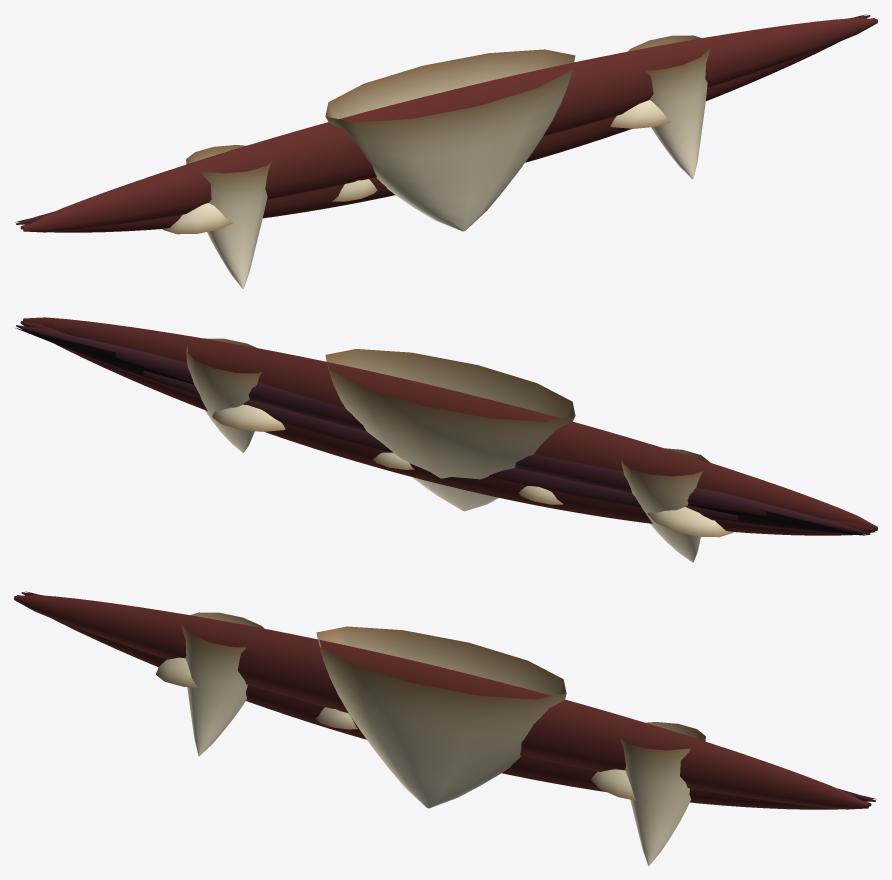
File: GXR_MOUTH_BEAK_FANGS.glb
The picture shows the model from 3 angles, top to bottom: view 1: azimuth 30°, elevation 25°; view 2: azimuth 150°, elevation 25°; view 3: azimuth 330°, elevation 25°; orthographic projection.
Parts seen in each view (by area): view 1: UpperLip, DraconicBeak, LowerLip, Tooth_0_0, Tooth_0_3, Tooth_1_0, Tooth_1_3, Tooth_1_1; view 2: UpperLip, DraconicBeak, UpperGum, LowerLip, LowerGum, Tooth_0_0, Tooth_0_3, OralCavity, Tooth_1_0, Tooth_1_3, Tooth_1_1; view 3: UpperLip, DraconicBeak, Tooth_0_3, Tooth_0_0, LowerLip, Tooth_1_3, Tooth_1_0, Tooth_1_1.
Part boxes in pixels (x1,y1,x2,y2): UpperLip: (23,18,877,232); DraconicBeak: (325,49,575,231); LowerLip: (20,18,874,232); Tooth_0_0: (186,145,271,288); Tooth_0_3: (628,35,710,179); Tooth_1_0: (162,203,232,234); Tooth_1_3: (610,100,670,128); Tooth_1_1: (332,179,377,201); UpperLip: (23,317,877,530); DraconicBeak: (325,349,575,511); UpperGum: (16,325,869,534); LowerLip: (20,321,875,535); LowerGum: (19,327,870,534); Tooth_0_0: (621,448,709,562); Tooth_0_3: (186,338,261,452); OralCavity: (15,328,865,535); Tooth_1_0: (647,507,733,537); Tooth_1_3: (212,404,285,431); Tooth_1_1: (518,486,563,504); UpperLip: (14,595,868,809); DraconicBeak: (316,626,566,808); Tooth_0_3: (620,722,705,865); Tooth_0_0: (181,612,263,756); LowerLip: (17,595,871,809); Tooth_1_3: (591,769,635,800); Tooth_1_0: (156,657,197,687); Tooth_1_1: (315,707,357,729).
Bounding box in the file's own units: 0.2049 × 0.031 × 0.023.
